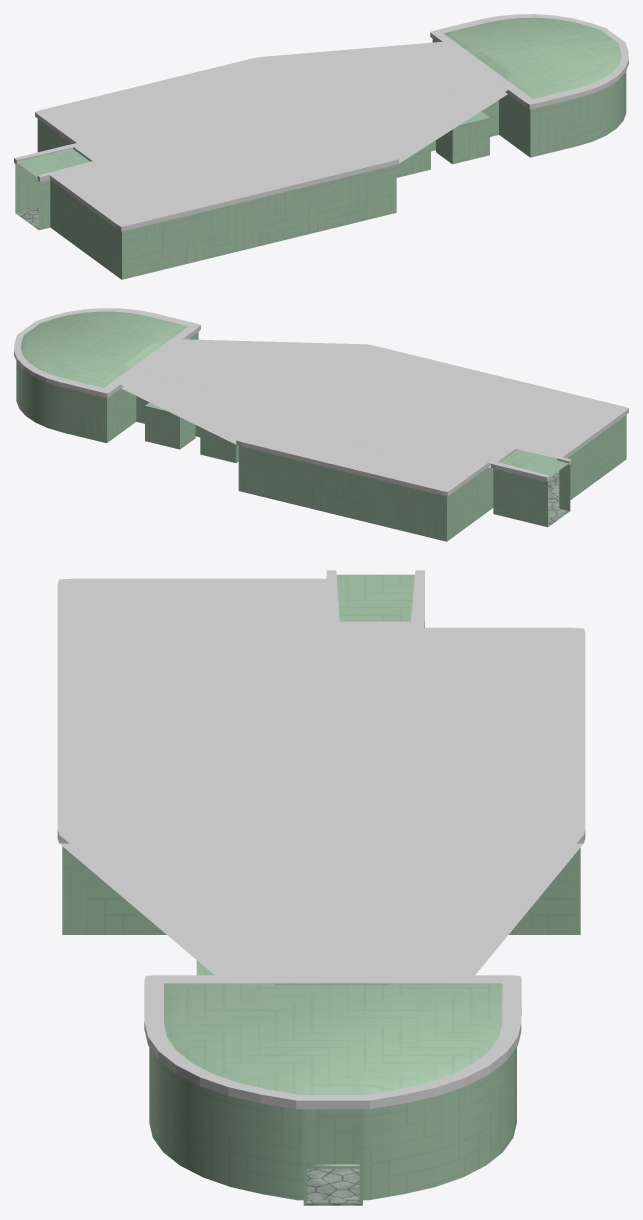
File: Level2.fbx
The picture shows the model from 3 angles, top to bottom: view 1: azimuth 30°, elevation 25°; view 2: azimuth 150°, elevation 25°; view 3: azimuth 270°, elevation 25°; orthographic projection. The views are drawn at different scales.
Parts seen in each view (by area): view 1: Level2Accent, Level2; view 2: Level2Accent, Level2; view 3: Level2Accent, Level2.
Boxes of the visible parts, left/top/right/bottom form: Level2Accent: left=14, top=14, right=628, bottom=231; Level2: left=15, top=17, right=626, bottom=279; Level2Accent: left=14, top=308, right=628, bottom=496; Level2: left=16, top=311, right=626, bottom=541; Level2Accent: left=57, top=570, right=585, bottom=1109; Level2: left=62, top=574, right=580, bottom=1205.
Size of the model in its own units: 16327 by 1543 by 6837.
